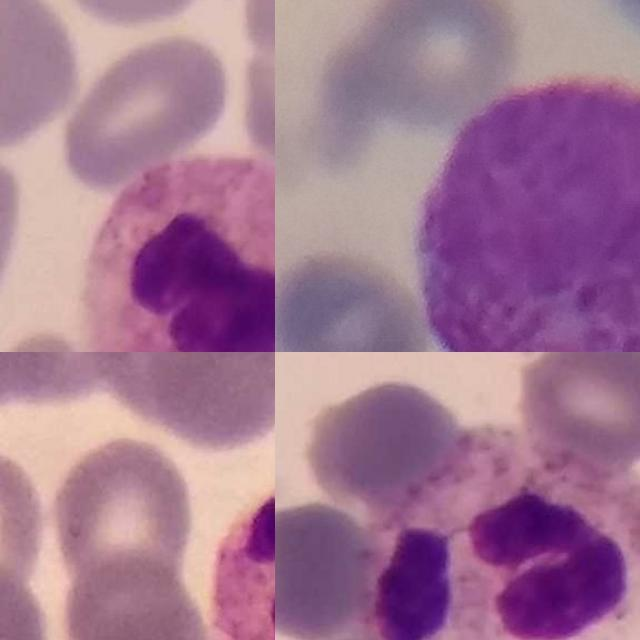Basophil: (414, 80, 640, 352)
Neutrophil: (371, 427, 640, 640), (81, 152, 275, 352)
